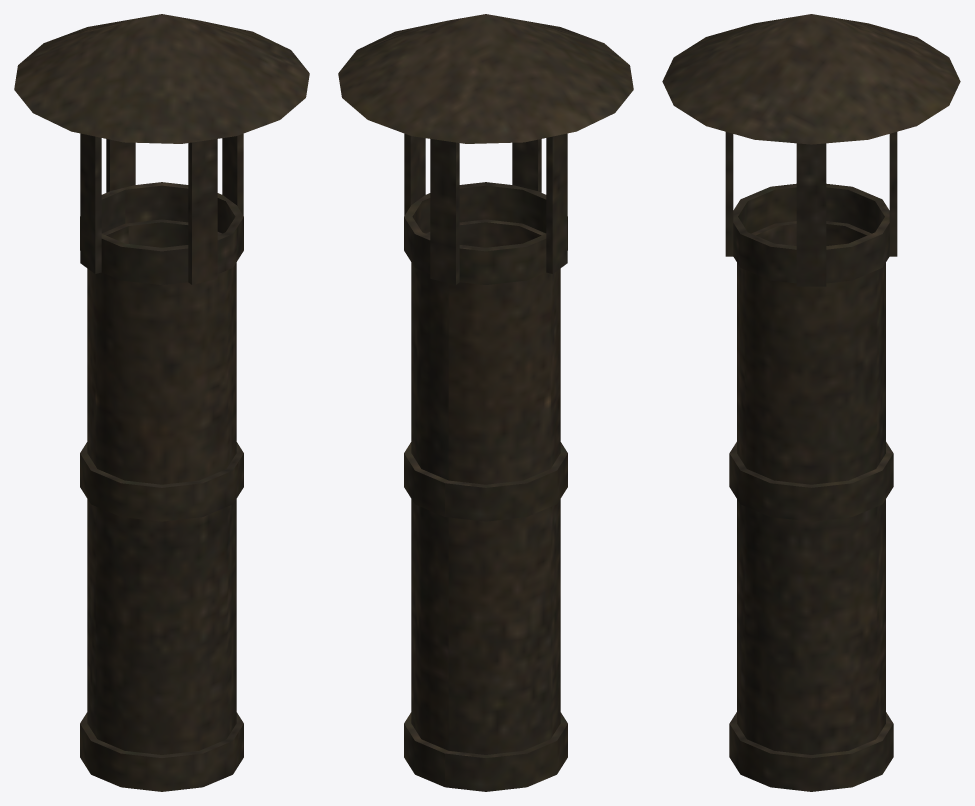
The model's file is chimney_a_1_1.dae.
3 views of the same model, side by side, from view 1: azimuth 30°, elevation 25°; view 2: azimuth 150°, elevation 25°; view 3: azimuth 270°, elevation 25° (orthographic).
Parts seen in each view (by area): view 1: chimney_a_1_1; view 2: chimney_a_1_1; view 3: chimney_a_1_1.
Boxes of the visible parts, x1,y1,x2,y2 form: chimney_a_1_1: (14, 14, 309, 791); chimney_a_1_1: (338, 14, 633, 791); chimney_a_1_1: (662, 14, 960, 791).
Size of the model in its own units: 0.4 by 0.4 by 1.1.
1 material, 1 textured.
